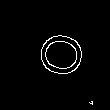O_W: (26, 28, 84, 82)
